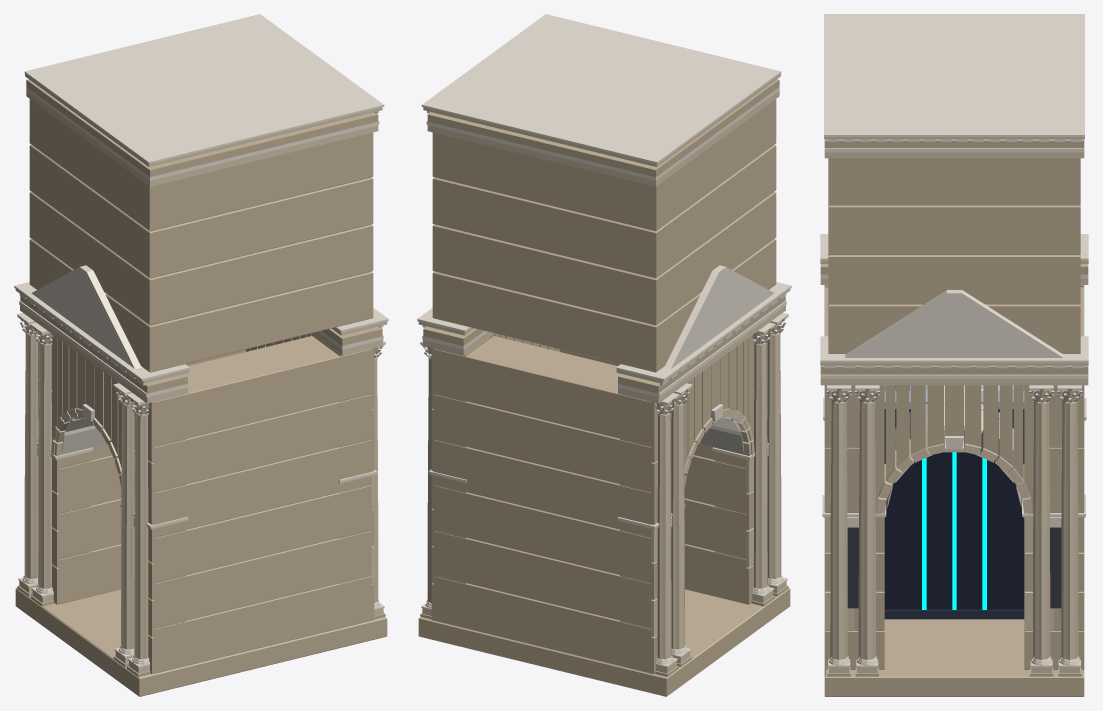
The model's file is COL_GateTower_West.glb.
The picture shows the model from 3 angles, left to right: view 1: azimuth 30°, elevation 25°; view 2: azimuth 150°, elevation 25°; view 3: azimuth 270°, elevation 25°; orthographic projection. The views are drawn at different scales.
Parts seen in each view (by area): view 1: COL_GateTower_West; view 2: COL_GateTower_West; view 3: COL_GateTower_West.
Part boxes in pixels (x1,y1,x2,y2): COL_GateTower_West: (14, 14, 388, 696); COL_GateTower_West: (417, 14, 791, 696); COL_GateTower_West: (820, 14, 1088, 696).
Bounding box in the file's own units: 32.18 × 65.7 × 28.52.
